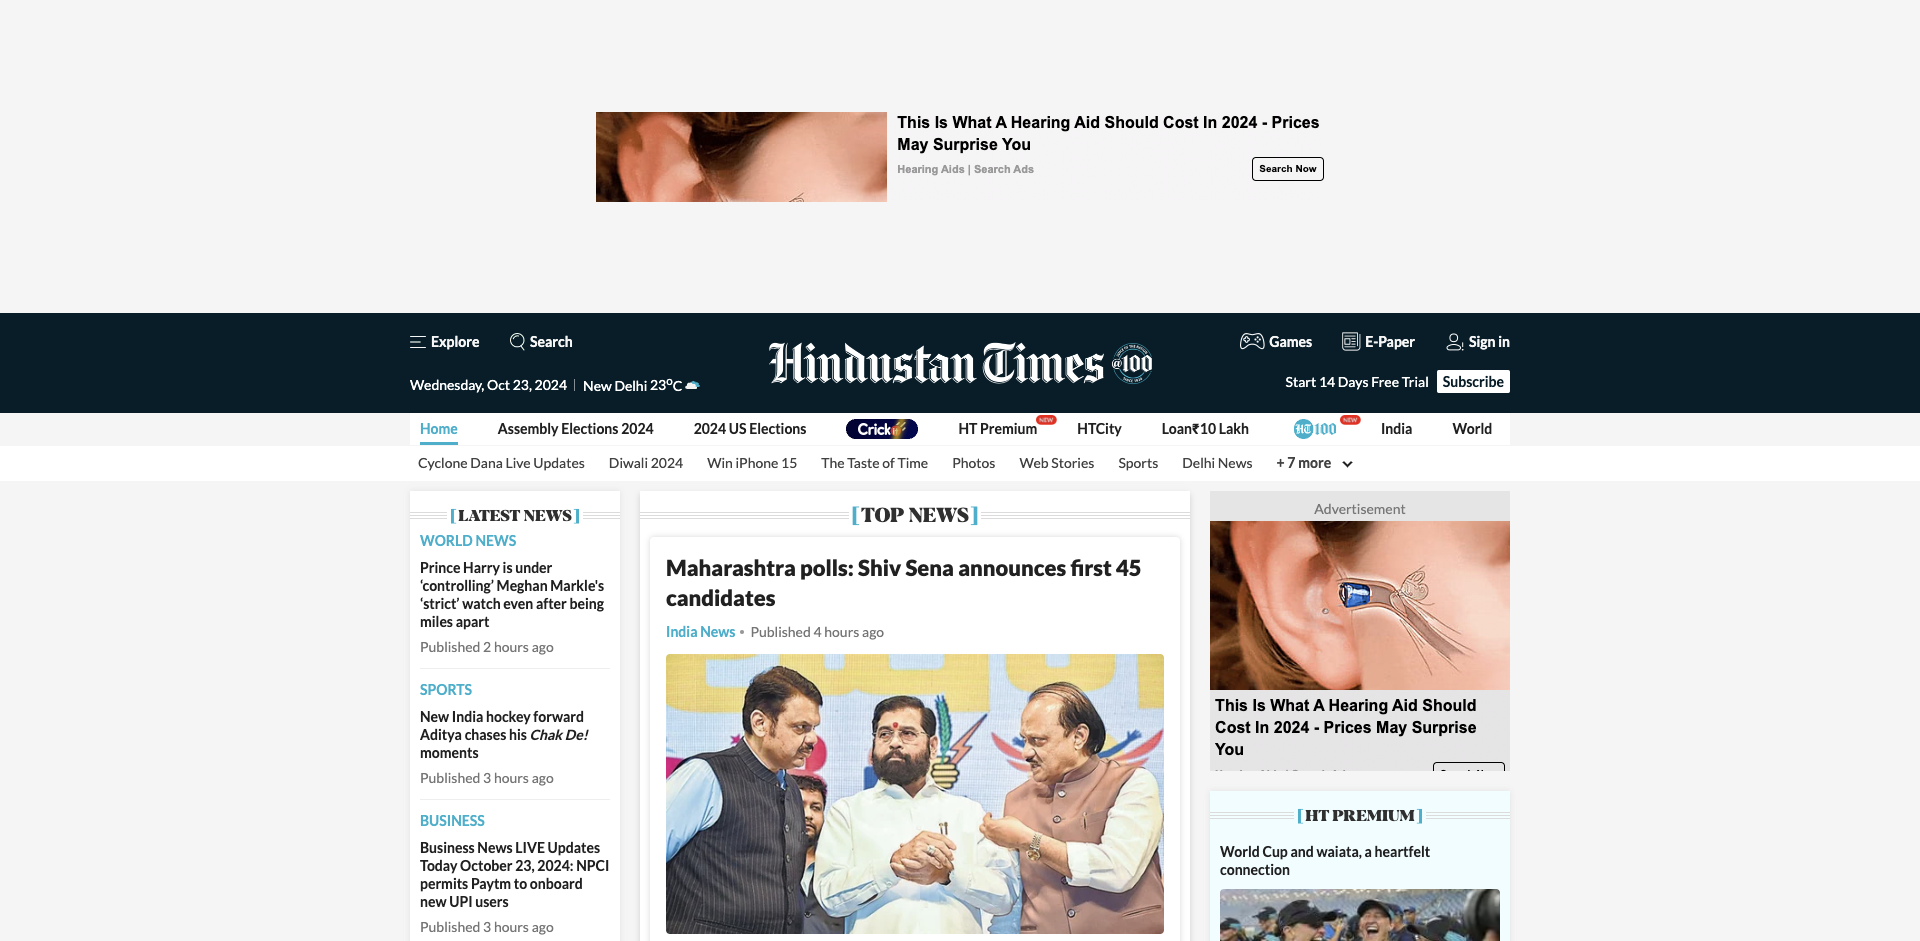button: (410, 325, 500, 359)
link: (650, 537, 1180, 941), (666, 554, 1141, 611), (769, 338, 1151, 387), (420, 839, 610, 910), (420, 559, 604, 630), (420, 708, 588, 761), (418, 448, 585, 477), (498, 419, 654, 439), (822, 448, 928, 477), (1327, 330, 1430, 354), (708, 448, 797, 477), (1226, 330, 1327, 353), (1276, 448, 1359, 477), (693, 419, 807, 439), (500, 328, 583, 354), (1511, 430, 1620, 450), (609, 448, 683, 477), (1020, 448, 1095, 477), (1183, 448, 1253, 477), (1642, 419, 1734, 439), (1162, 419, 1249, 439), (420, 532, 517, 549), (1436, 370, 1510, 392), (959, 419, 1037, 439), (846, 419, 918, 439), (1532, 419, 1603, 439), (953, 448, 996, 477), (666, 622, 736, 640), (1118, 448, 1158, 477), (420, 812, 485, 830), (1774, 419, 1829, 439), (1289, 419, 1341, 439), (1870, 419, 1920, 439), (420, 681, 473, 698), (1078, 419, 1122, 439), (1452, 419, 1493, 439), (420, 419, 458, 439), (1381, 419, 1412, 439)
